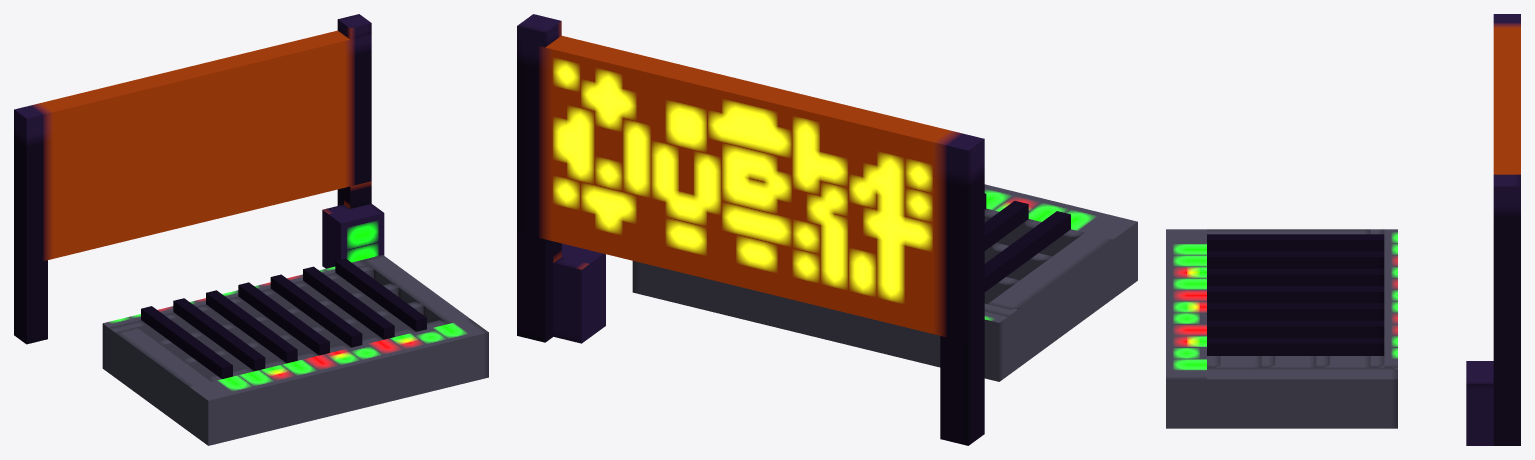
File: NEON_I_RZECZ.dae
3 views of the same model, side by side, from view 1: azimuth 30°, elevation 25°; view 2: azimuth 150°, elevation 25°; view 3: azimuth 270°, elevation 25° (orthographic). The views are drawn at different scales.
Parts seen in each view (by area): view 1: Content; view 2: Content; view 3: Content.
Boxes of the visible parts, <box> form: Content: <box>14,14,488,445</box>; Content: <box>517,14,1137,445</box>; Content: <box>1166,14,1520,445</box>.
Size of the model in its own units: 32 by 21 by 26.
1 material, 1 textured.
